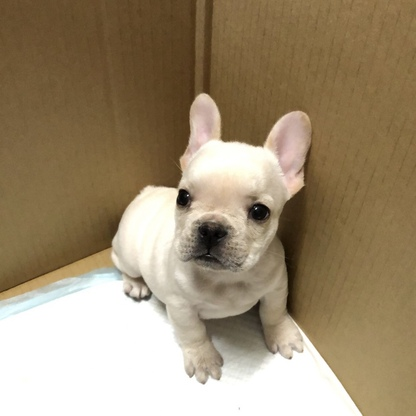bulldog: (106, 86, 316, 387)
